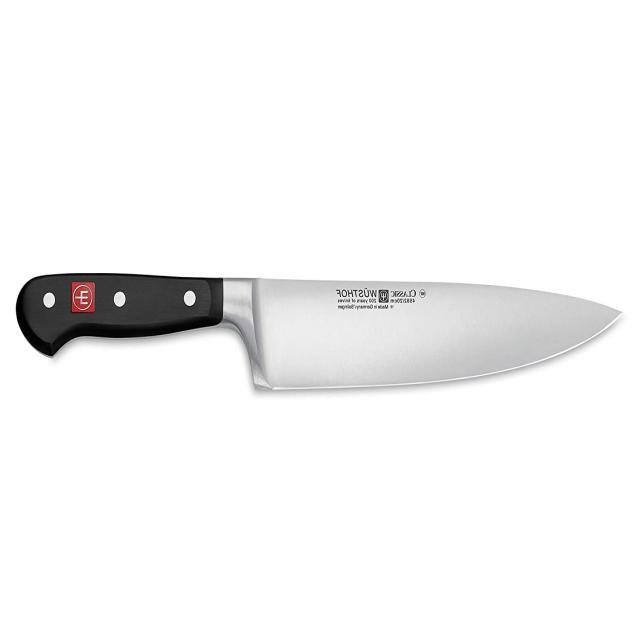knife: (11, 256, 632, 406)
